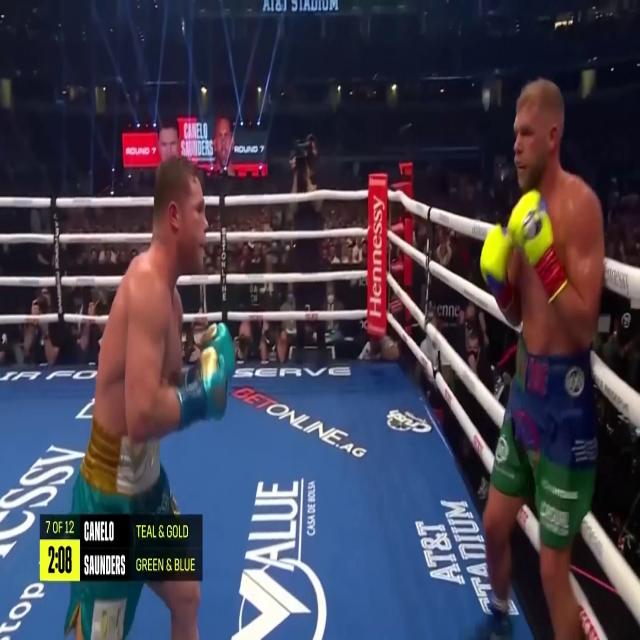boxer_1: (514, 79, 602, 265), (523, 265, 598, 354)
boxer_2: (138, 159, 208, 294), (93, 262, 133, 434), (164, 297, 176, 382)
gloves_1: (480, 190, 567, 326)
gloves_2: (176, 323, 235, 429)
